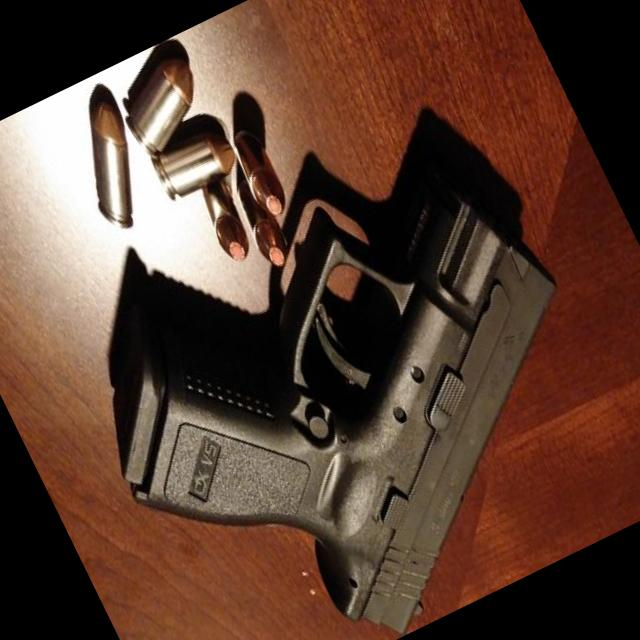Weapon: (22, 69, 640, 640)
